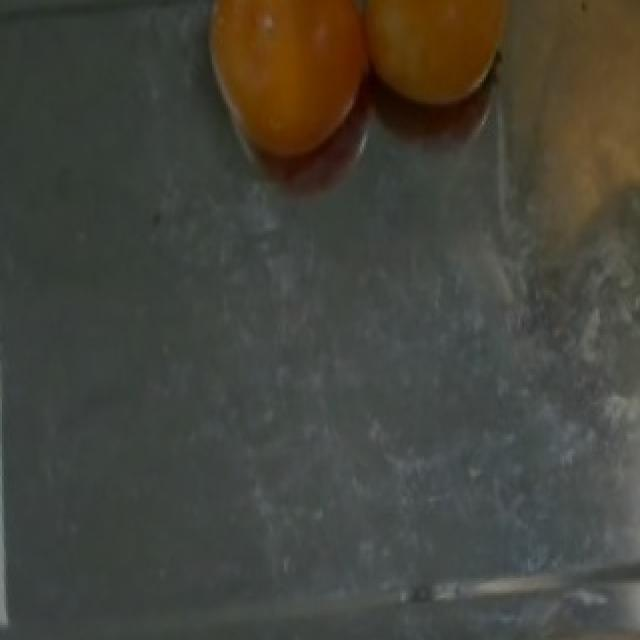Fruit: (178, 0, 394, 181), (318, 2, 544, 136)
